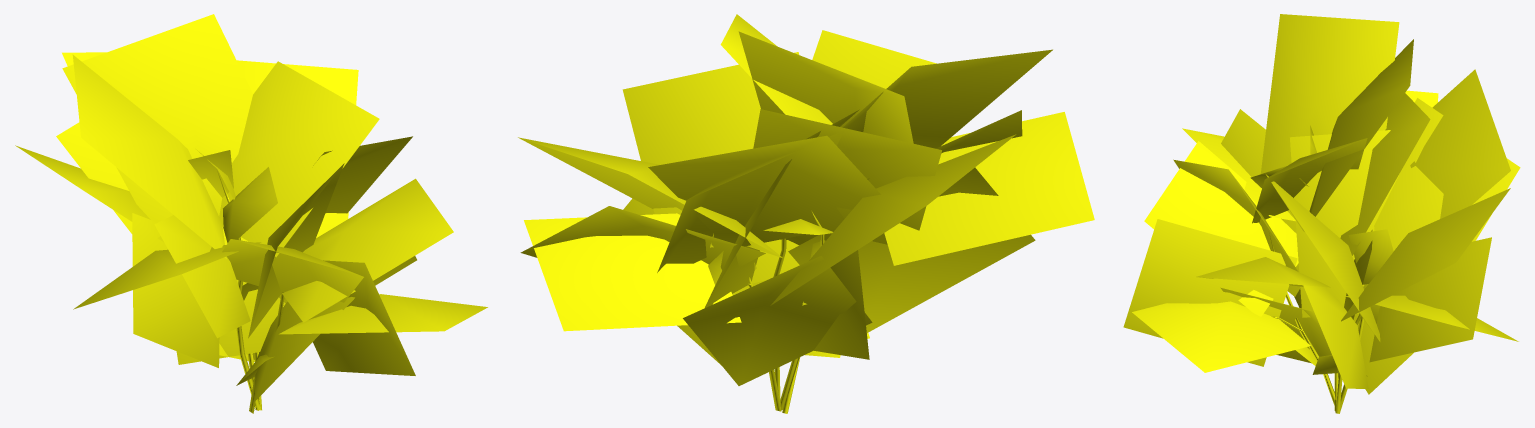
File: bush.glb
The picture shows the model from 3 angles, left to right: view 1: azimuth 30°, elevation 25°; view 2: azimuth 150°, elevation 25°; view 3: azimuth 270°, elevation 25°; orthographic projection. The views are drawn at different scales.
Parts seen in each view (by area): view 1: Bush; view 2: Bush; view 3: Bush.
Boxes of the visible parts, left/top/right/bottom form: Bush: left=15, top=14, right=487, bottom=413; Bush: left=518, top=14, right=1094, bottom=413; Bush: left=1123, top=14, right=1520, bottom=413.
Size of the model in its own units: 1.46 by 1.29 by 1.42.
